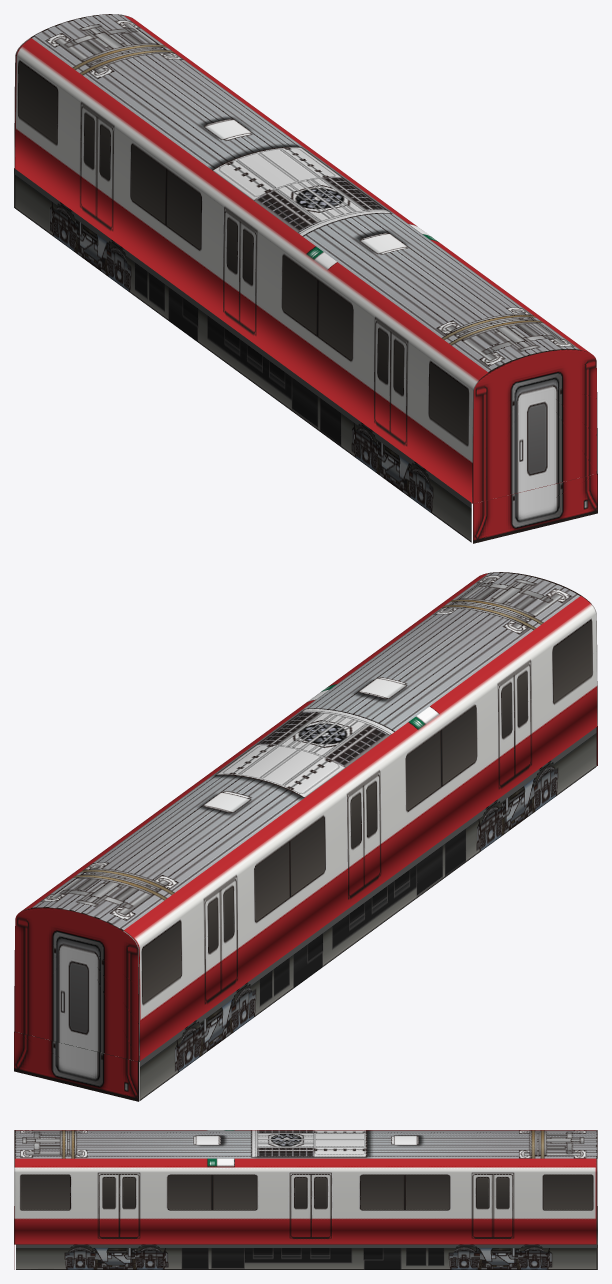
Rendered from car3.glb.
The picture shows the model from 3 angles, top to bottom: view 1: azimuth 30°, elevation 25°; view 2: azimuth 150°, elevation 25°; view 3: azimuth 270°, elevation 25°; orthographic projection. The views are drawn at different scales.
Parts seen in each view (by area): view 1: keikyu-1000-car3; view 2: keikyu-1000-car3; view 3: keikyu-1000-car3.
Part boxes in pixels (x1,y1,x2,y2): keikyu-1000-car3: [14, 14, 597, 543]; keikyu-1000-car3: [14, 572, 597, 1101]; keikyu-1000-car3: [14, 1130, 597, 1269].
Bounding box in the file's own units: 2.83 × 3.77 × 18.03.
Materials: 9 (8 with a texture image).
